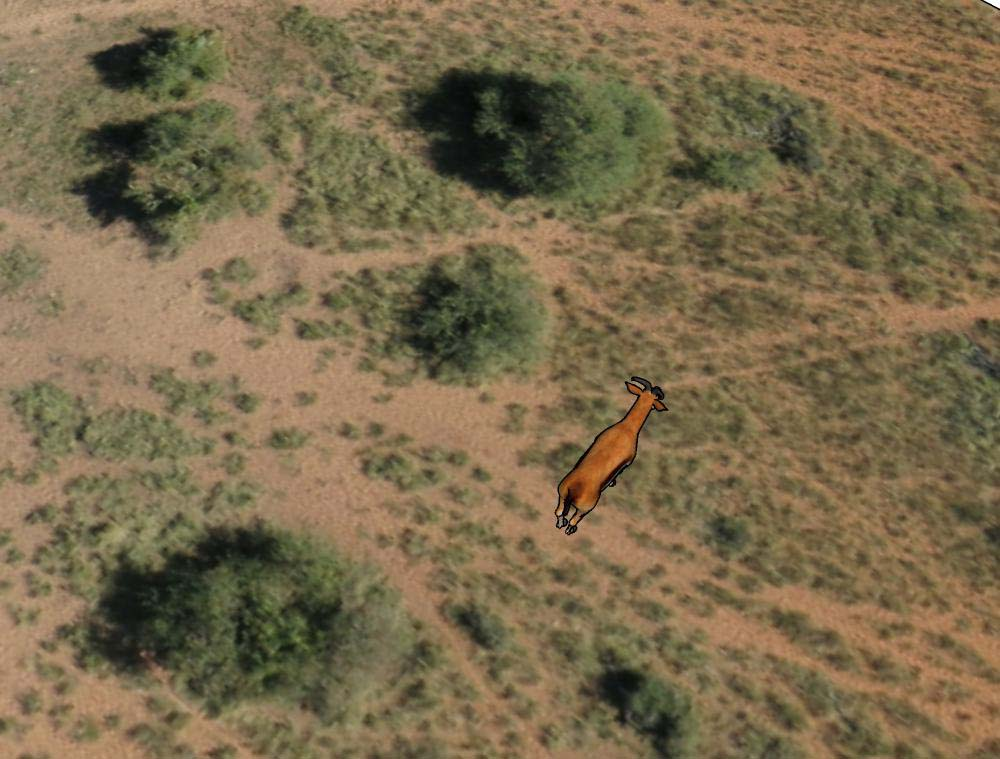springbok: (552, 369, 669, 539)
